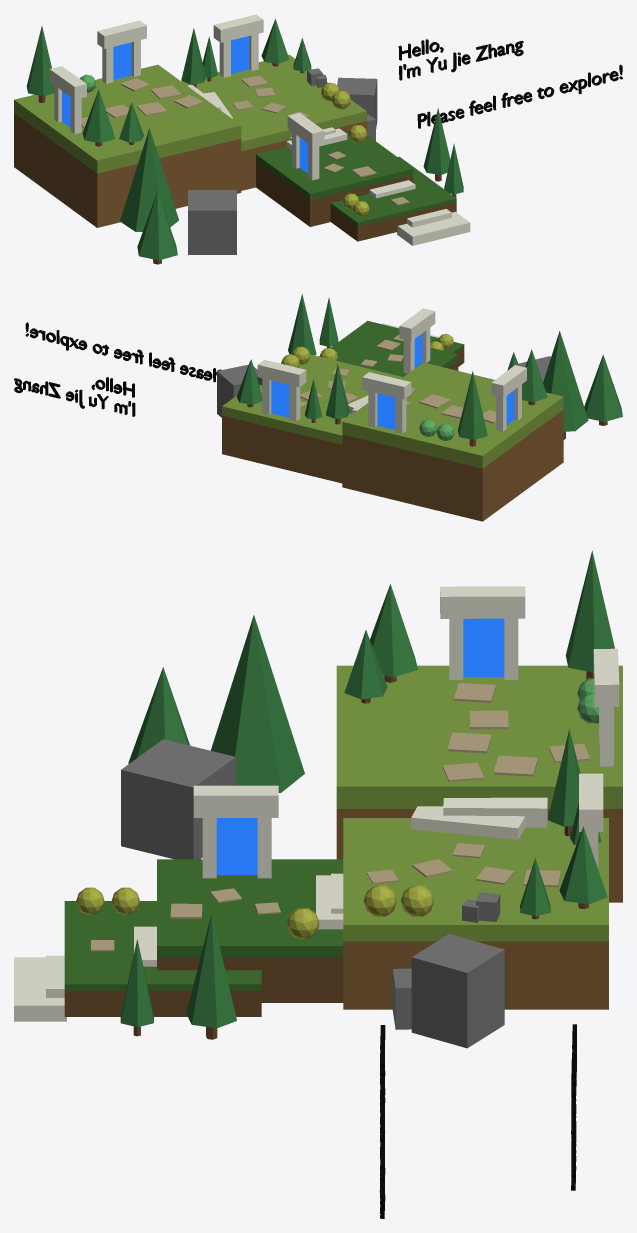
File: newestest_environment.glb
The picture shows the model from 3 angles, top to bottom: view 1: azimuth 30°, elevation 25°; view 2: azimuth 150°, elevation 25°; view 3: azimuth 270°, elevation 25°; orthographic projection. The views are drawn at different scales.
Visible parts, largest first — view 1: terrain, terrain.001, terrain.002, terrain.003, rocks, trees.009, Text.001, trees.010, Text, stairs, trees.002, trees.007 (+22 smaller); view 2: terrain, terrain.001, terrain.002, trees.009, trees.010, Text.001, Text, trees.002, gates.008, gates.005, rocks.007, trees.007 (+16 smaller); view 3: terrain.001, terrain, terrain.002, terrain.003, rocks, rocks.007, trees.009, trees.007, trees.002, gates.011, gates.002, trees (+22 smaller).
Boxes of the visible parts, x1=… form: terrain: x1=14, y1=64, x2=241, y2=227; terrain.001: x1=181, y1=54, x2=366, y2=190; terrain.002: x1=256, y1=131, x2=413, y2=226; terrain.003: x1=330, y1=156, x2=456, y2=241; rocks: x1=188, y1=190, x2=236, y2=254; trees.009: x1=120, y1=128, x2=178, y2=231; Text.001: x1=417, y1=64, x2=622, y2=128; trees.010: x1=137, y1=191, x2=177, y2=264; Text: x1=398, y1=39, x2=523, y2=80; stairs: x1=397, y1=212, x2=470, y2=245; trees.002: x1=26, y1=26, x2=54, y2=102; trees.007: x1=423, y1=108, x2=450, y2=181; terrain: x1=342, y1=362, x2=563, y2=521; terrain.001: x1=222, y1=354, x2=402, y2=483; terrain.002: x1=332, y1=330, x2=458, y2=376; trees.009: x1=543, y1=331, x2=588, y2=439; trees.010: x1=584, y1=354, x2=622, y2=425; Text.001: x1=25, y1=322, x2=221, y2=382; Text: x1=14, y1=377, x2=135, y2=416; trees.002: x1=458, y1=371, x2=487, y2=446; gates.008: x1=362, y1=372, x2=411, y2=399; gates.005: x1=257, y1=359, x2=306, y2=387; rocks.007: x1=217, y1=364, x2=257, y2=417; trees.007: x1=288, y1=294, x2=316, y2=355; terrain.001: x1=343, y1=818, x2=608, y2=1009; terrain: x1=336, y1=665, x2=622, y2=902; terrain.002: x1=157, y1=859, x2=343, y2=1002; terrain.003: x1=64, y1=901, x2=261, y2=1016; rocks: x1=121, y1=739, x2=235, y2=859; rocks.007: x1=411, y1=934, x2=504, y2=1048; trees.009: x1=211, y1=615, x2=304, y2=792; trees.007: x1=186, y1=913, x2=236, y2=1039; trees.002: x1=565, y1=550, x2=614, y2=679; gates.011: x1=440, y1=586, x2=525, y2=618; gates.002: x1=193, y1=785, x2=278, y2=817; trees: x1=370, y1=584, x2=417, y2=682.
Size of what is drawn, in the model's own units: 28.98 by 7.44 by 16.22.
